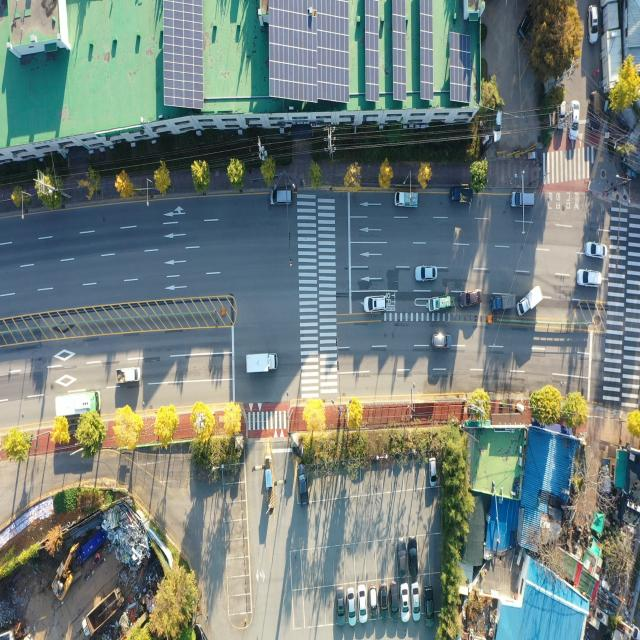car: (517, 4, 536, 44), (588, 91, 601, 132), (578, 270, 604, 288), (509, 193, 534, 210), (298, 460, 308, 502), (589, 4, 599, 44), (570, 101, 580, 141), (397, 539, 407, 579), (357, 585, 367, 623), (364, 295, 386, 312), (460, 290, 480, 308), (410, 535, 419, 575), (587, 242, 608, 259), (272, 188, 293, 205), (416, 267, 438, 283), (413, 583, 422, 621), (348, 588, 357, 626), (431, 334, 451, 351), (425, 585, 434, 622), (380, 586, 390, 617), (400, 584, 408, 622), (493, 109, 502, 142), (338, 589, 346, 626), (430, 456, 438, 486), (391, 584, 398, 618), (369, 584, 376, 612), (559, 102, 566, 128)
large_bus: (55, 390, 101, 418)
medium_truck: (79, 588, 127, 640), (245, 352, 277, 375)
small_truck: (516, 284, 542, 318), (117, 366, 142, 385), (489, 293, 514, 312), (394, 192, 418, 210), (450, 186, 472, 204), (602, 457, 612, 496), (428, 295, 452, 311)
